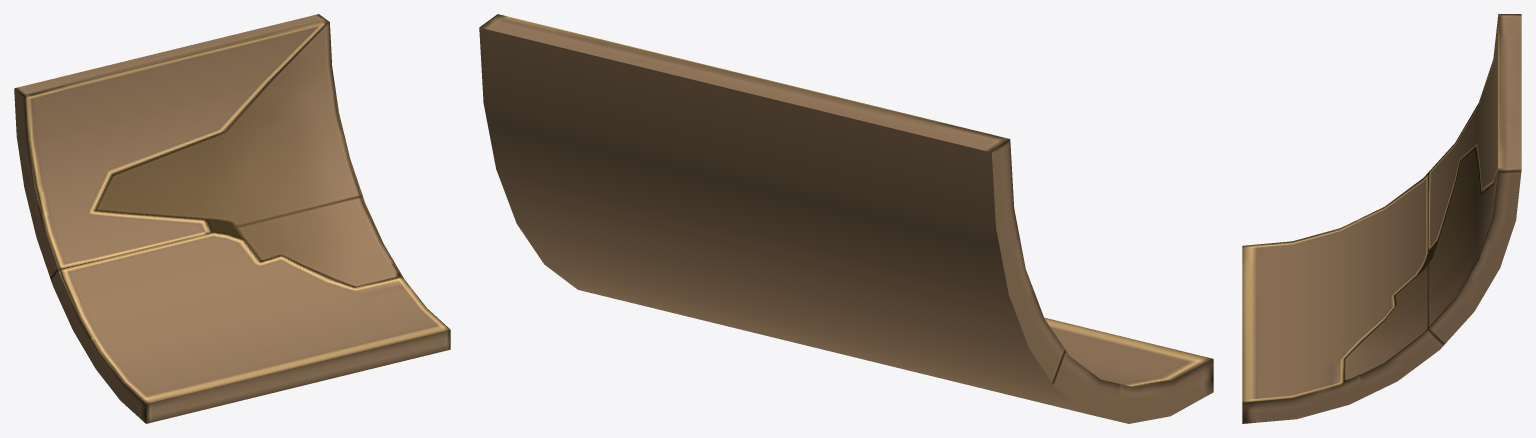
The model's file is egypt_quarter_circle.gltf.
The picture shows the model from 3 angles, left to right: view 1: azimuth 30°, elevation 25°; view 2: azimuth 150°, elevation 25°; view 3: azimuth 270°, elevation 25°; orthographic projection. The views are drawn at different scales.
Visible parts, largest first — view 1: egypt_quarter_circle_glb; view 2: egypt_quarter_circle_glb; view 3: egypt_quarter_circle_glb.
Part boxes in pixels (box(x1,y1,x2,y2)): egypt_quarter_circle_glb: box(14, 14, 450, 423); egypt_quarter_circle_glb: box(479, 14, 1213, 423); egypt_quarter_circle_glb: box(1242, 14, 1521, 423).
Size of what is drawn, in the model's own units: 4 by 3 by 3.
1 material, 1 textured.
